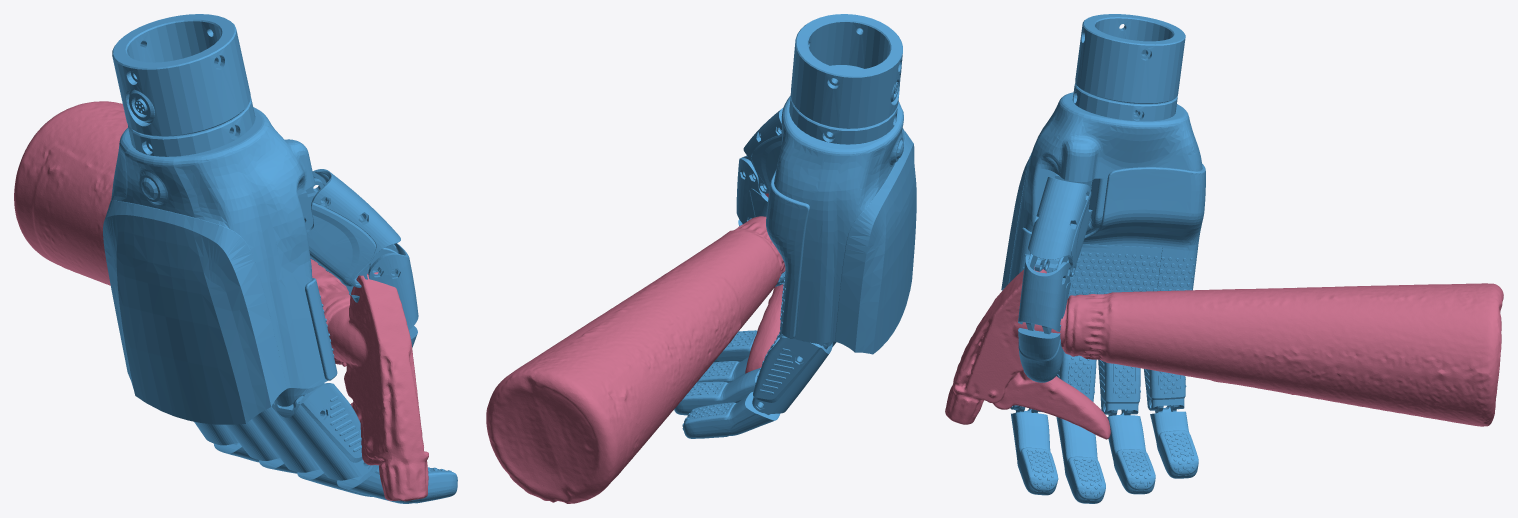
The picture shows the model from 3 angles, left to right: view 1: azimuth 30°, elevation 25°; view 2: azimuth 150°, elevation 25°; view 3: azimuth 270°, elevation 25°; orthographic projection. The views are drawn at different scales.
Visible parts, largest first — view 1: 8; view 2: 8; view 3: 8.
Boxes of the visible parts, left/top/right/bottom form: 8: left=14, top=14, right=457, bottom=503; 8: left=486, top=14, right=916, bottom=503; 8: left=945, top=14, right=1503, bottom=503.
Bounding box in the file's own units: 0.1257 × 0.2126 × 0.2685.
